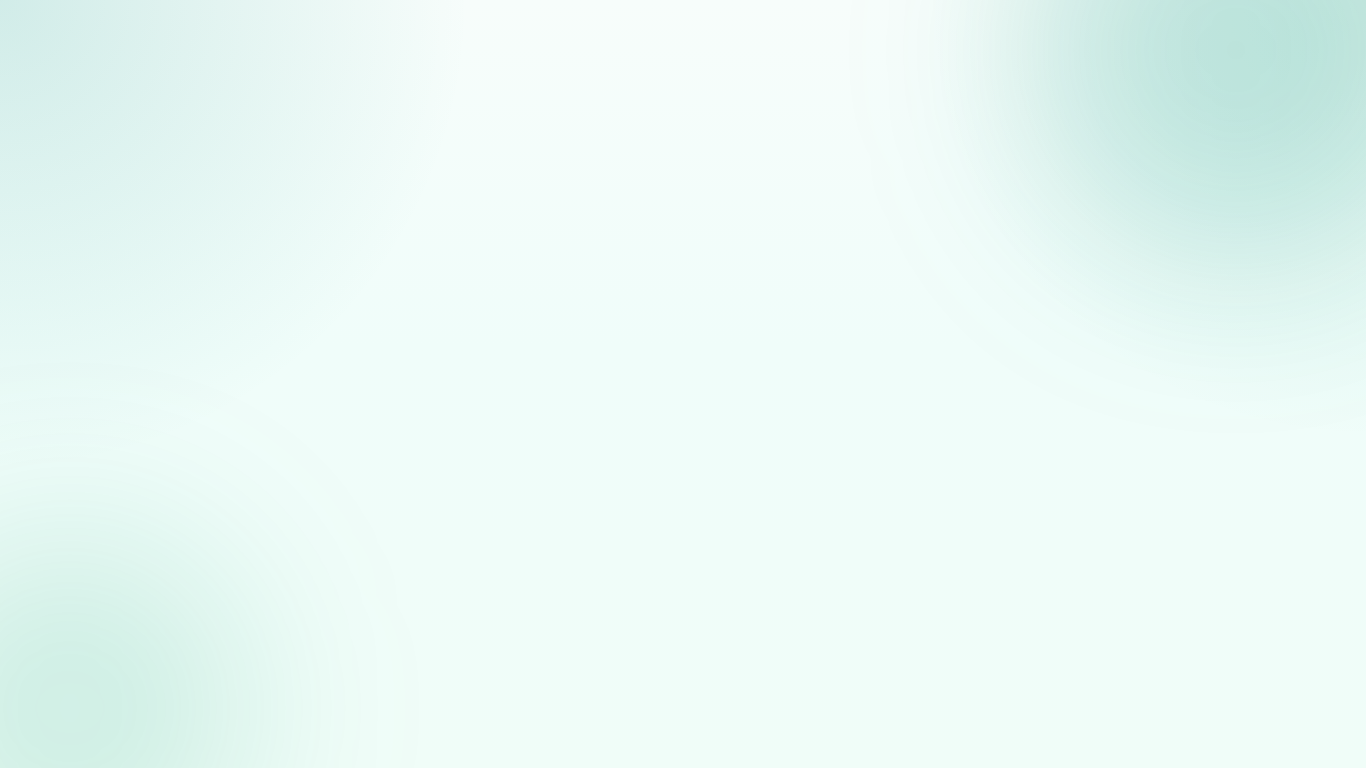
CommandPalette › filters results by query
The width and height of the screenshot is (1366, 768).
Press k
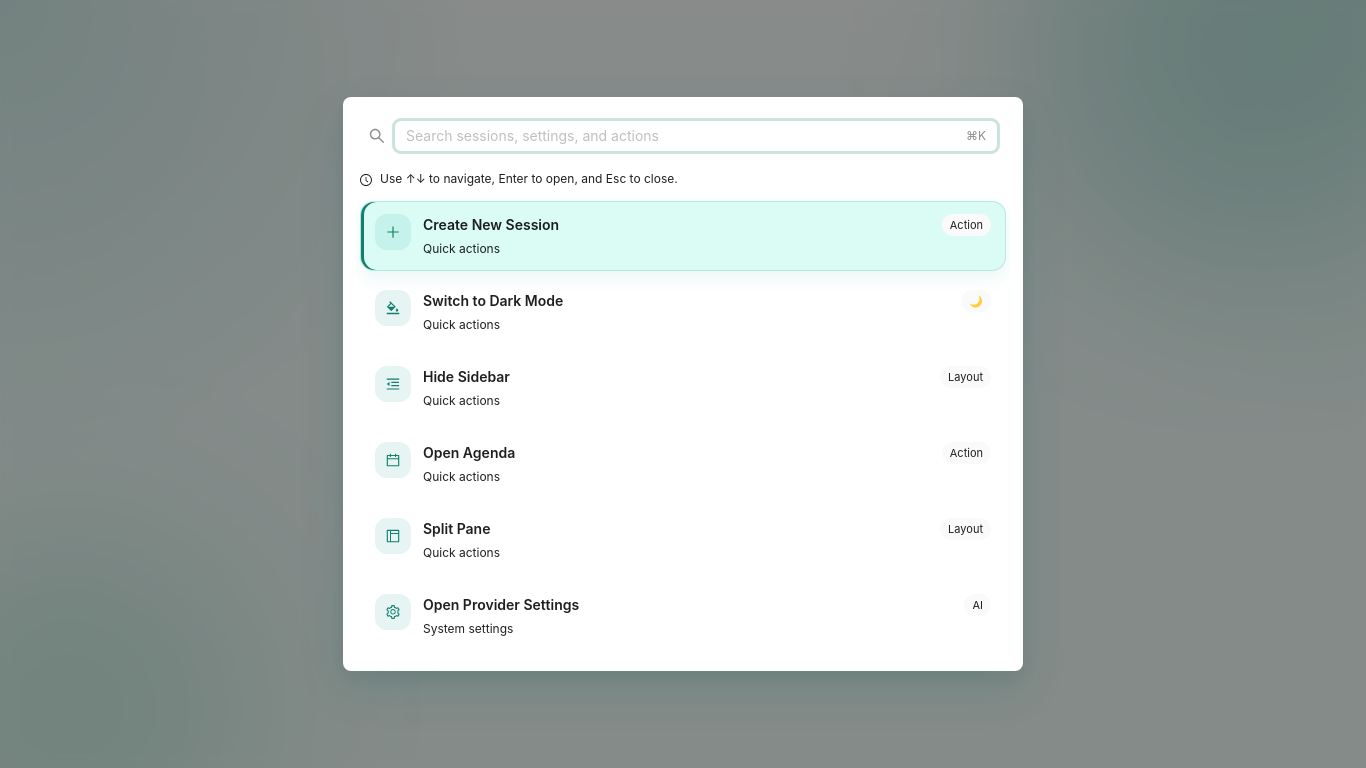
Type "mcp" into the dropdown with placeholder "Search sessions, settings, and actions".
click(684, 136); type("mcp")  # box [406,125,962,147]
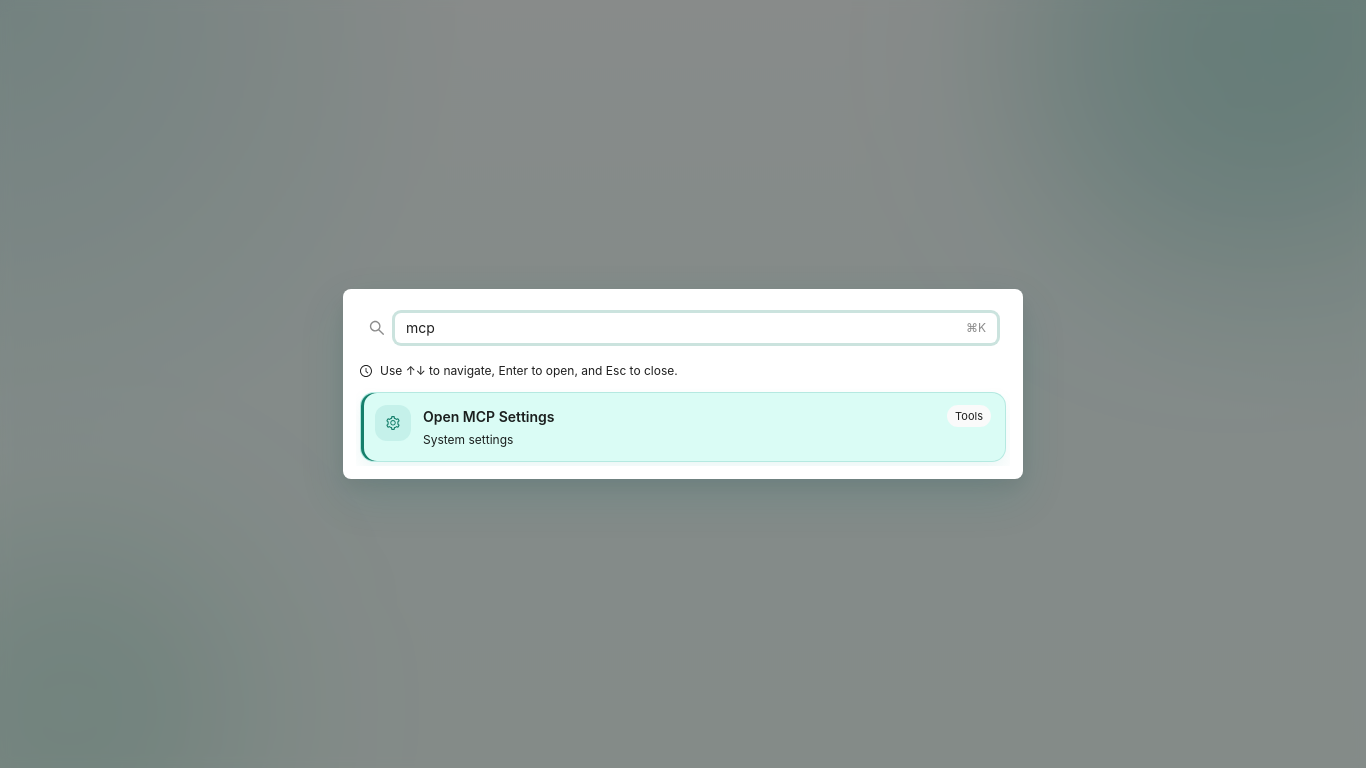
Expected: the text "Open MCP Settings" is shown, [423,407,554,426]
